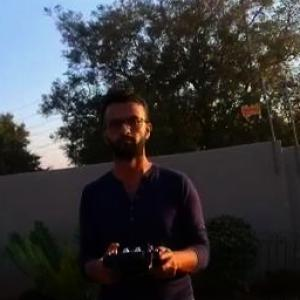follow: (74, 80, 217, 299)
